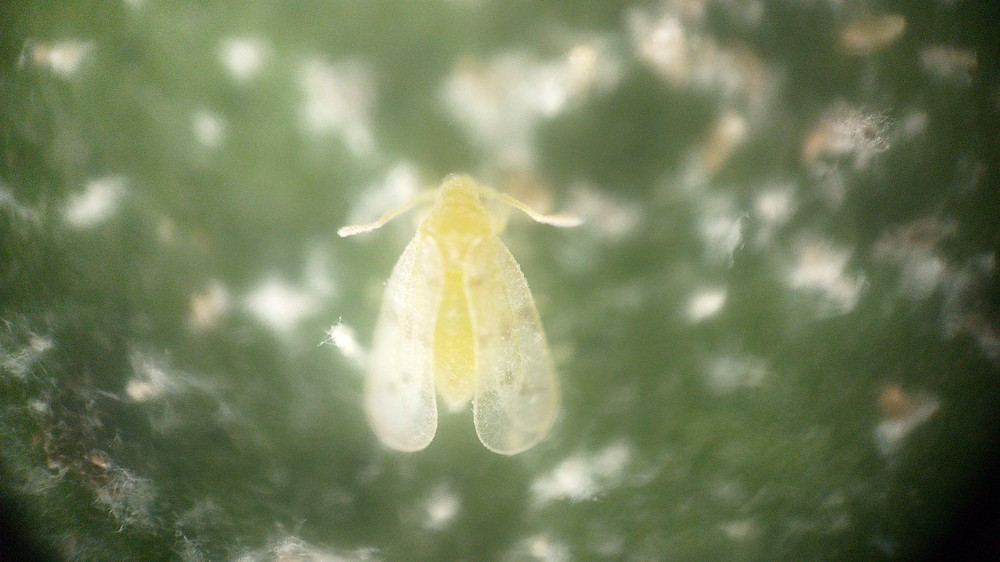Mosca Blanca: (325, 161, 589, 472)
